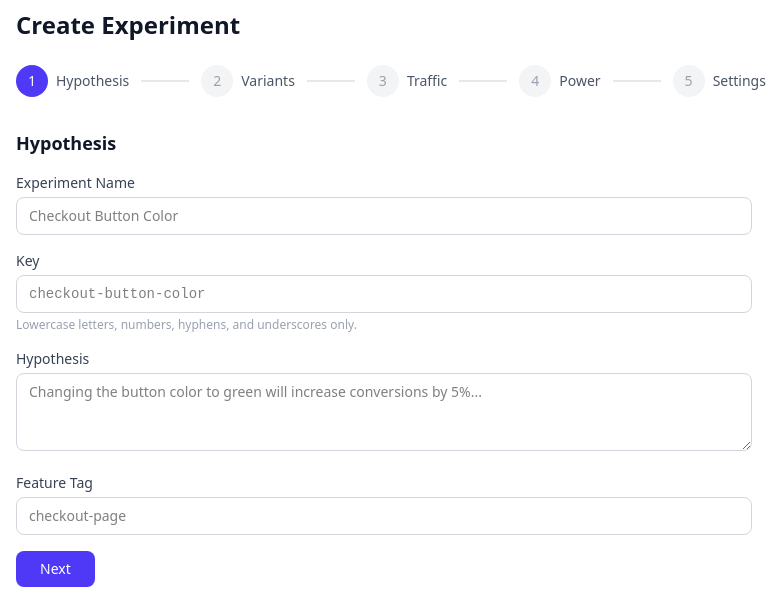
Test: CreateExperimentPage — Power calculator wizard step › omits the traffic sentence when estimated_days is null
Step 1. Type "Test Experiment" into the field with placeholder "Checkout Button Color" → (384, 216), box [16,197,752,235]
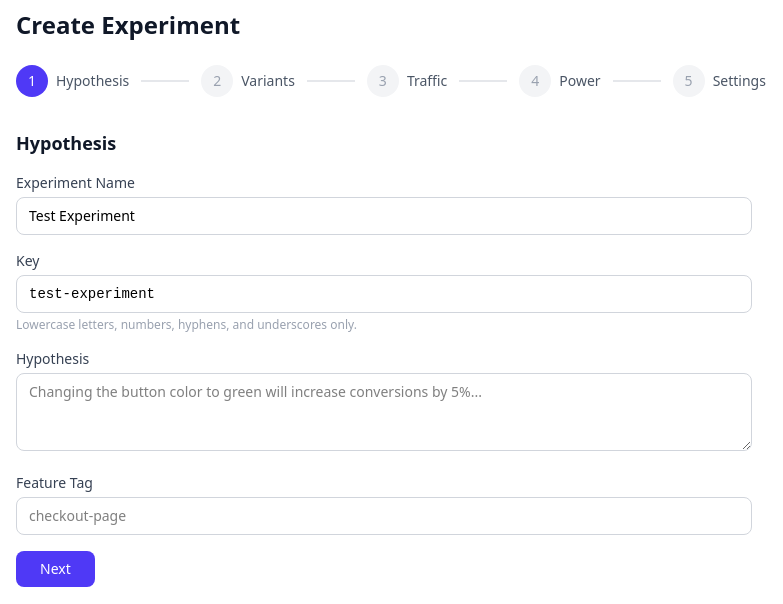
Step 2. Click the button "Next" → (55, 569), box [16,551,95,587]
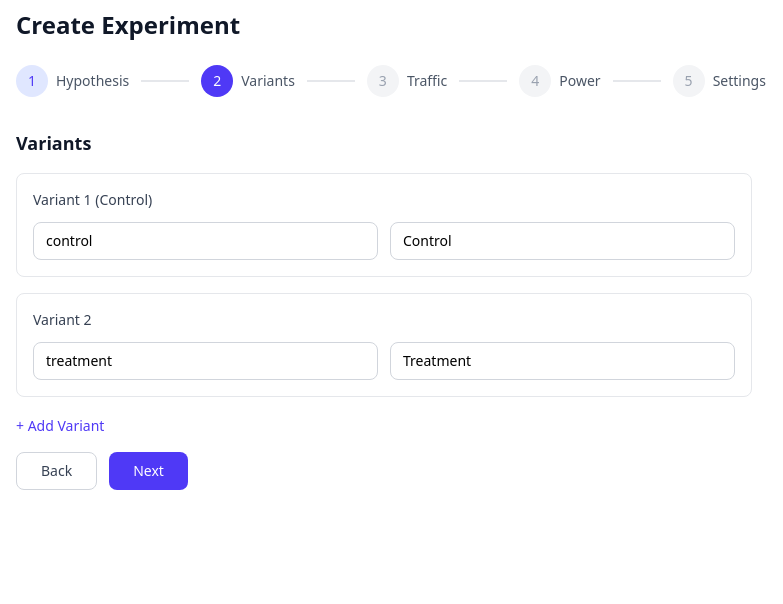
Step 3. Click the button "Next" → (149, 471), box [109,452,188,490]
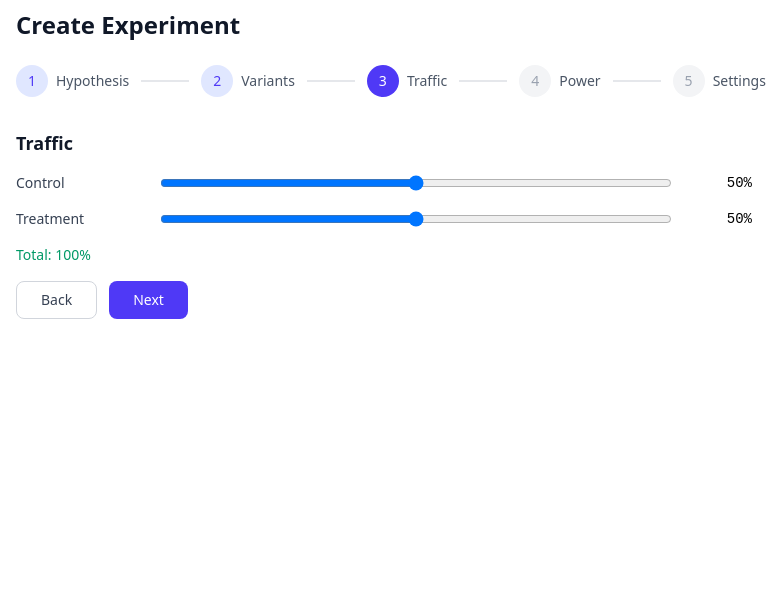
Step 4. Click the button "Next" → (149, 300), box [109,281,188,319]
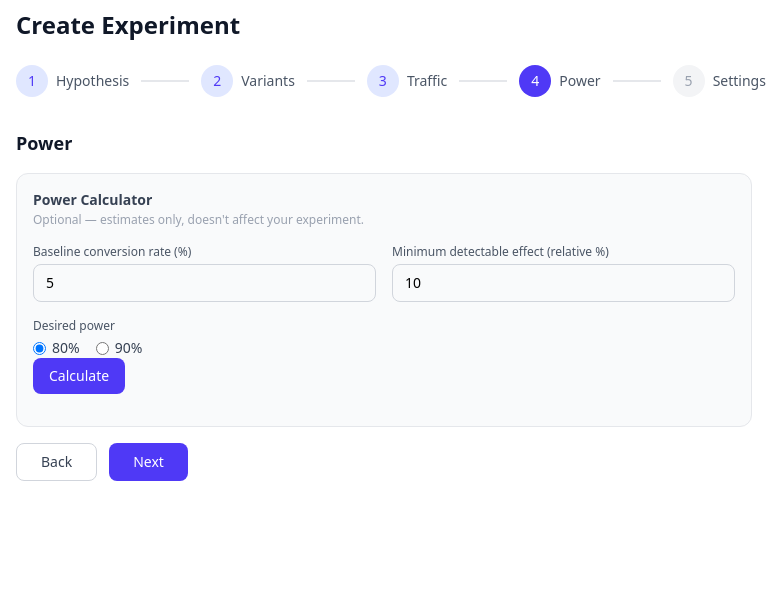
Step 5. Click the button "Calculate" → (79, 376), box [33,358,125,394]
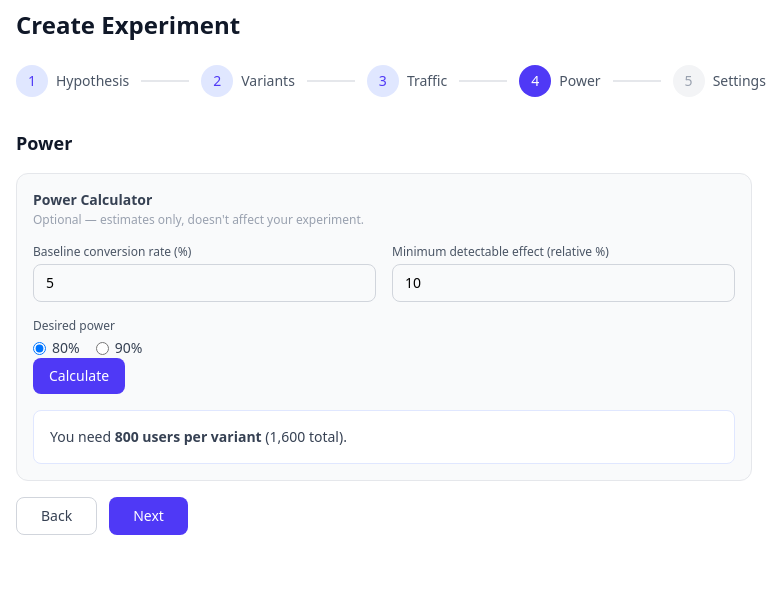
Expected: the text "800 users per variant" is shown, [115,427,262,446]
